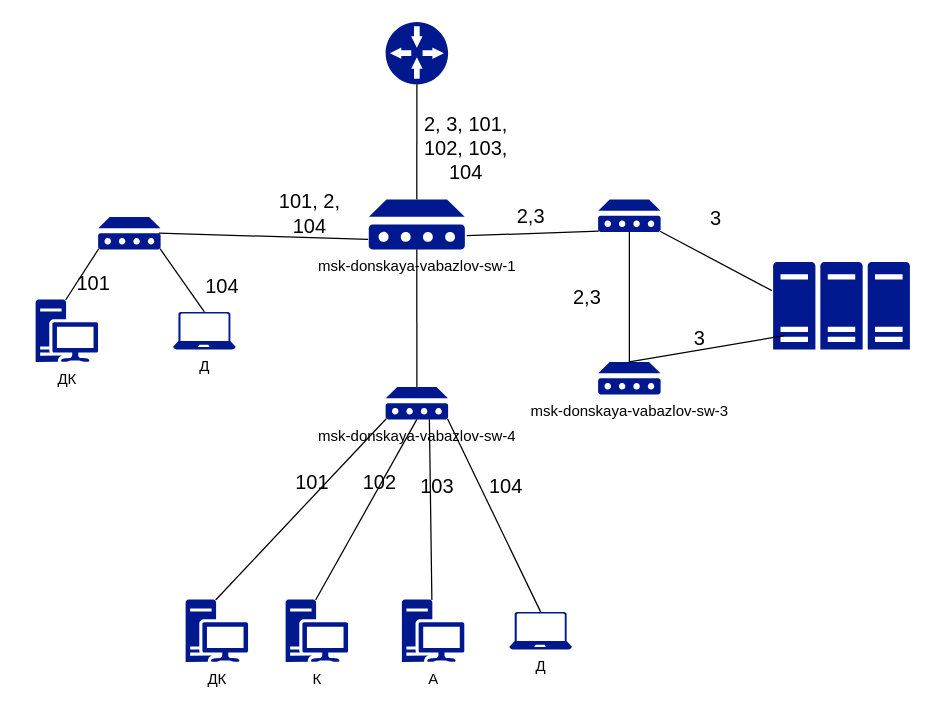
Image size: 931x709. Some labels were removed from this diagram. The shapes that lost their labels are listed below. From the top down, each one's centre as x and y in pixels, then its label:
At point 416,52: "msk-donskaya-vabazlov-gw-1".
At point 129,232: "msk-pavlovskaya-vabazlov-sw-1".
At point 629,215: "msk-donskaya-vabazlov-sw-2".
At point 840,305: "Серверная ферма".
